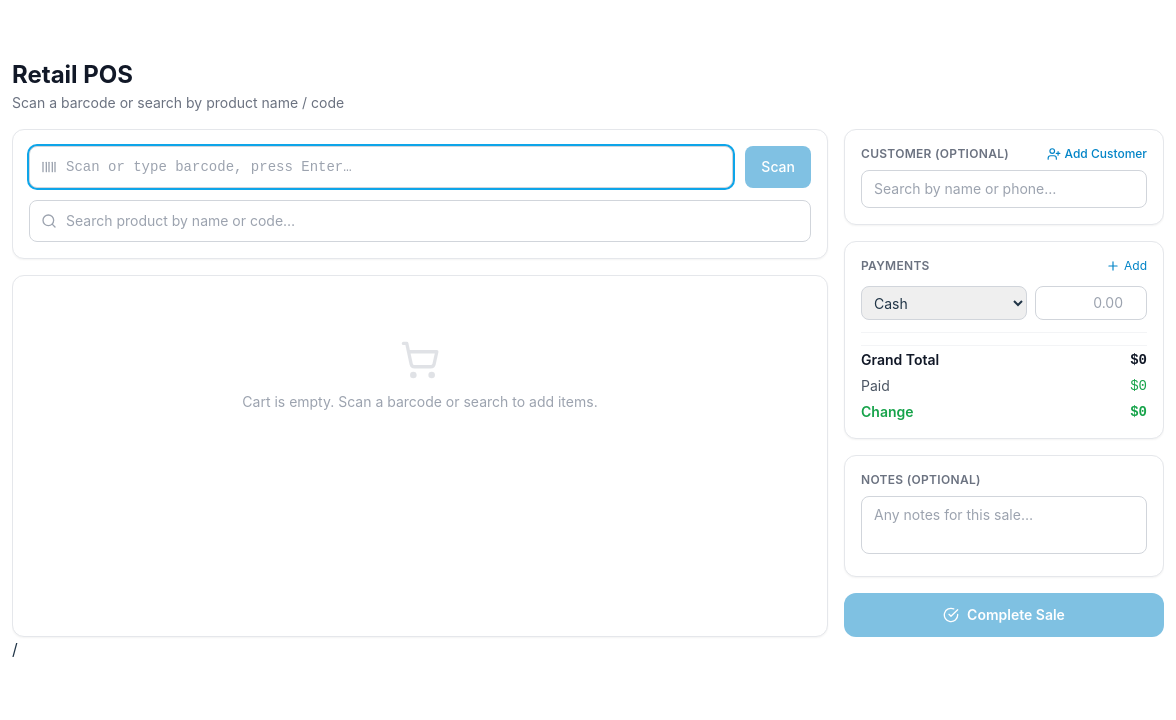
Test: Retail POS › converts metres with the configured factor and converts the price
Type "0828156987886" into the field labelled "barcode" at (381, 167), box left=29, top=146, right=733, bottom=188
Then press Enter
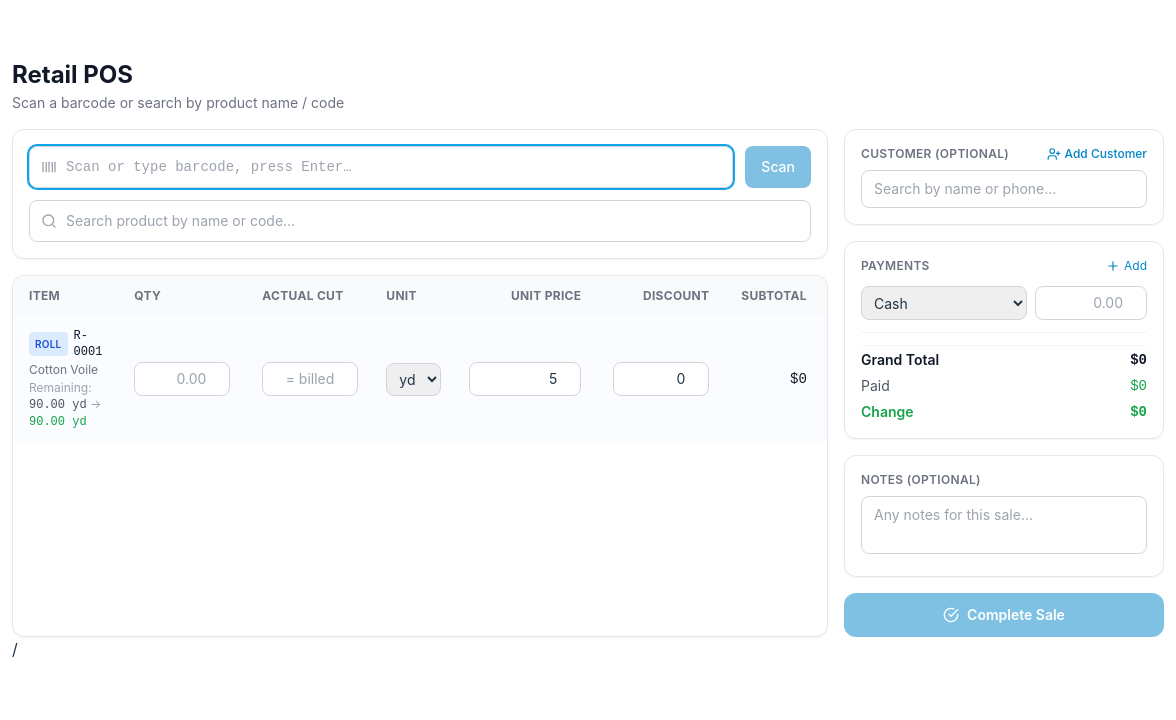
Now the text "R-0001" is shown, box left=74, top=328, right=102, bottom=360
Select "m" in the dropdown named "Unit for R-0001" at (414, 379), box left=386, top=362, right=441, bottom=396
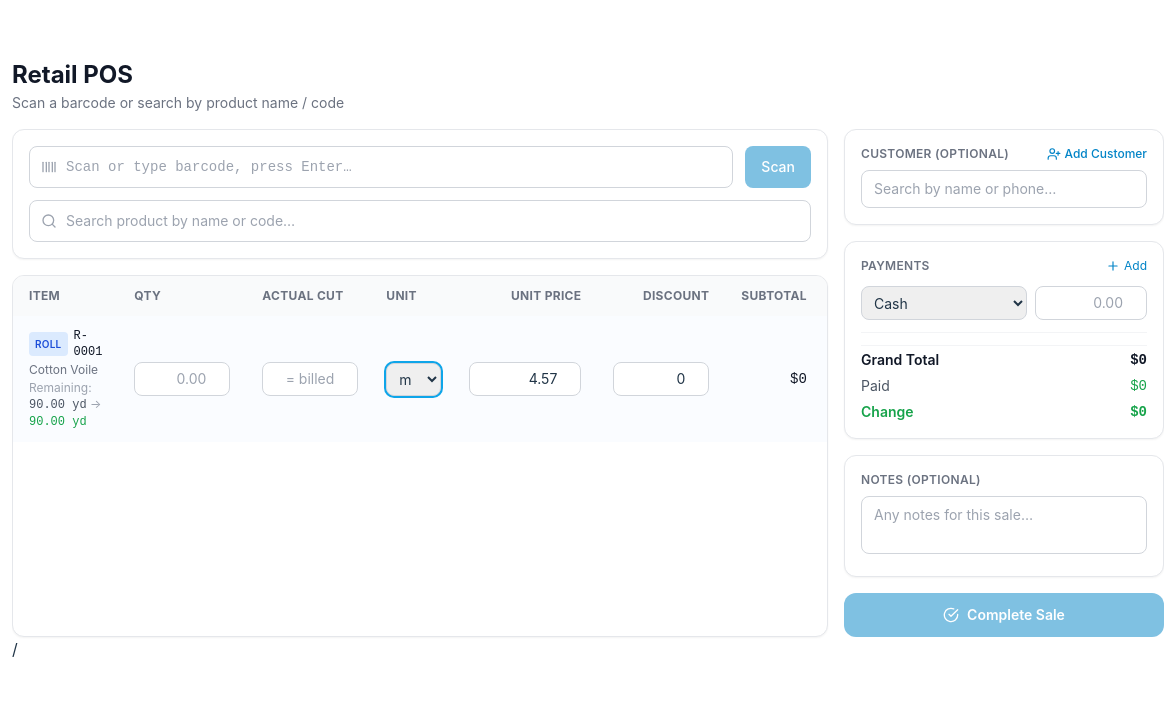
Type "10" into the number field named "Quantity for R-0001" at (182, 379), box left=134, top=362, right=230, bottom=396
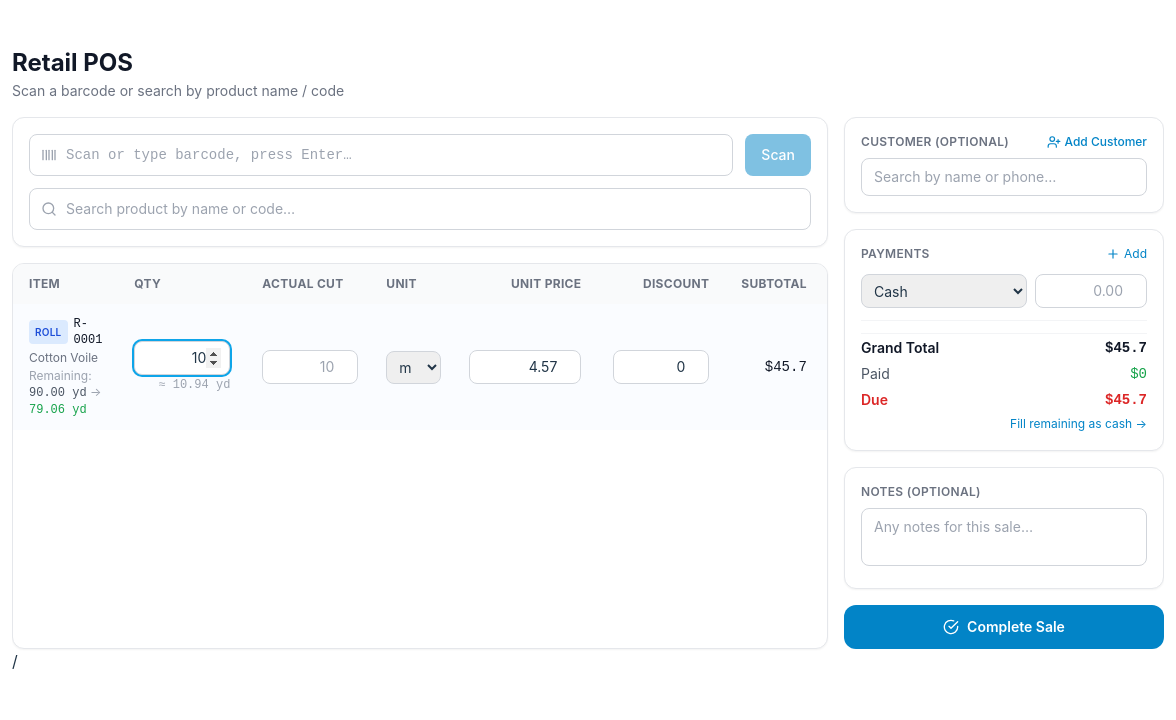
Now the number field named "Unit price for R-0001" holds "4.57", box left=469, top=350, right=581, bottom=384
Now the text "≈ 10.94 yd" is shown, box left=158, top=378, right=230, bottom=392
Now the text "79.06 yd" is shown, box left=29, top=403, right=87, bottom=417
